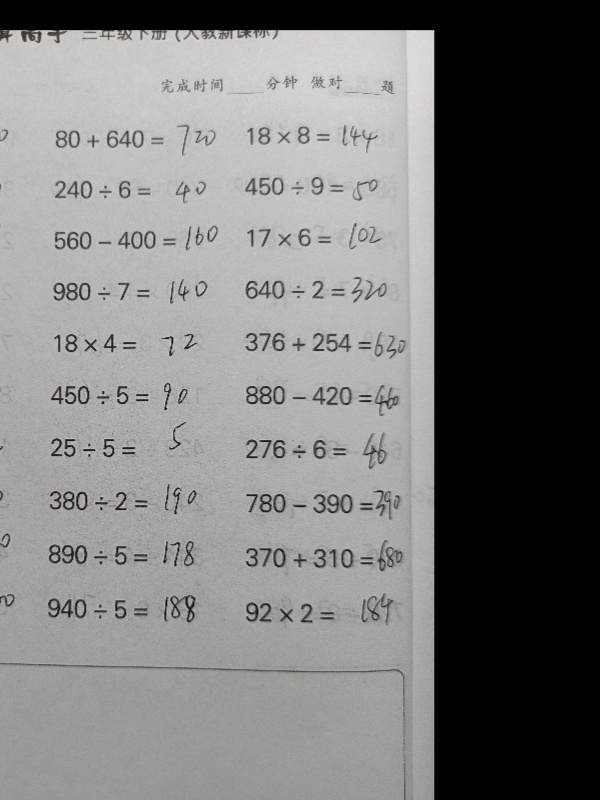equation: (237, 533, 417, 579), (237, 378, 417, 424), (237, 478, 417, 523), (237, 269, 417, 311), (236, 322, 416, 363), (238, 114, 418, 155), (45, 220, 225, 259), (236, 168, 416, 206), (237, 594, 417, 630), (38, 590, 218, 626), (39, 537, 219, 572), (41, 483, 221, 518), (237, 432, 417, 467), (41, 430, 221, 465), (42, 378, 222, 412), (46, 326, 226, 360), (45, 275, 225, 309), (239, 221, 419, 255), (47, 172, 227, 206), (47, 123, 227, 156), (0, 212, 31, 258), (0, 118, 33, 159), (0, 526, 25, 571), (0, 169, 31, 203), (0, 272, 28, 306), (0, 324, 27, 358), (0, 376, 26, 411), (0, 481, 26, 515), (0, 429, 26, 463), (0, 586, 24, 620)
